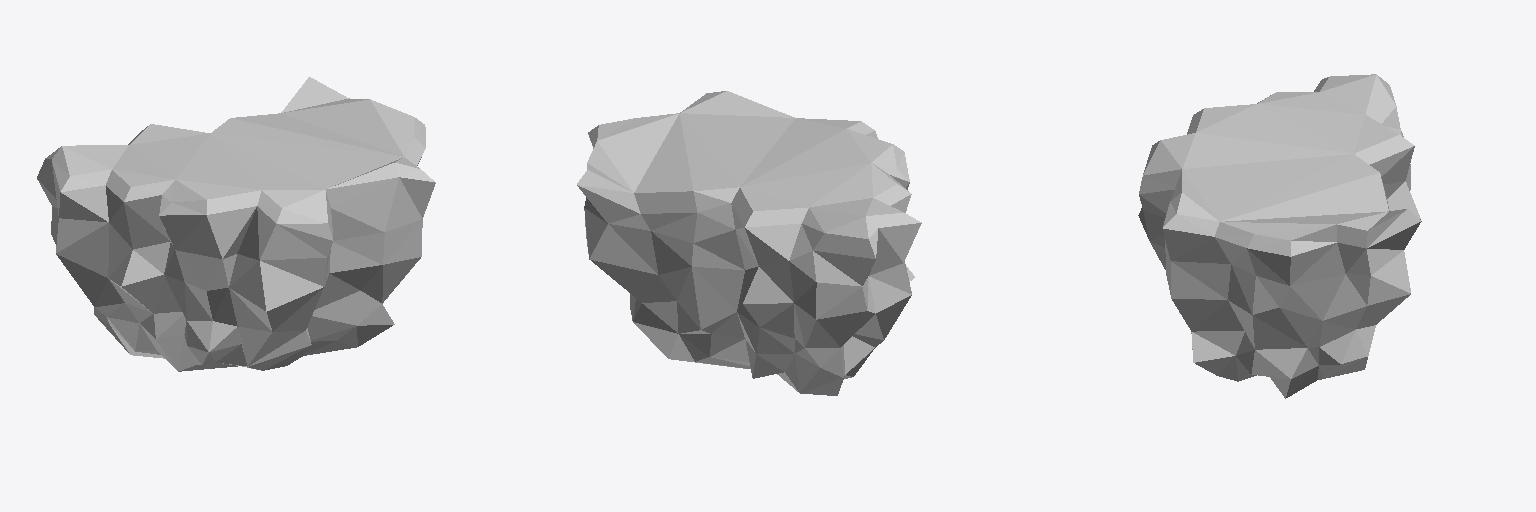
Rendered from floatingIsland2.obj.
3 renders of one model, left to right at view 1: azimuth 30°, elevation 25°; view 2: azimuth 150°, elevation 25°; view 3: azimuth 270°, elevation 25°, orthographic.
Parts seen in each view (by area): view 1: Plane_Plane.001; view 2: Plane_Plane.001; view 3: Plane_Plane.001.
Boxes of the visible parts, <box> form: Plane_Plane.001: <box>37,77,435,371</box>; Plane_Plane.001: <box>577,91,921,395</box>; Plane_Plane.001: <box>1138,74,1421,398</box>.
Bounding box in the file's own units: 1.69 × 1.02 × 1.19.